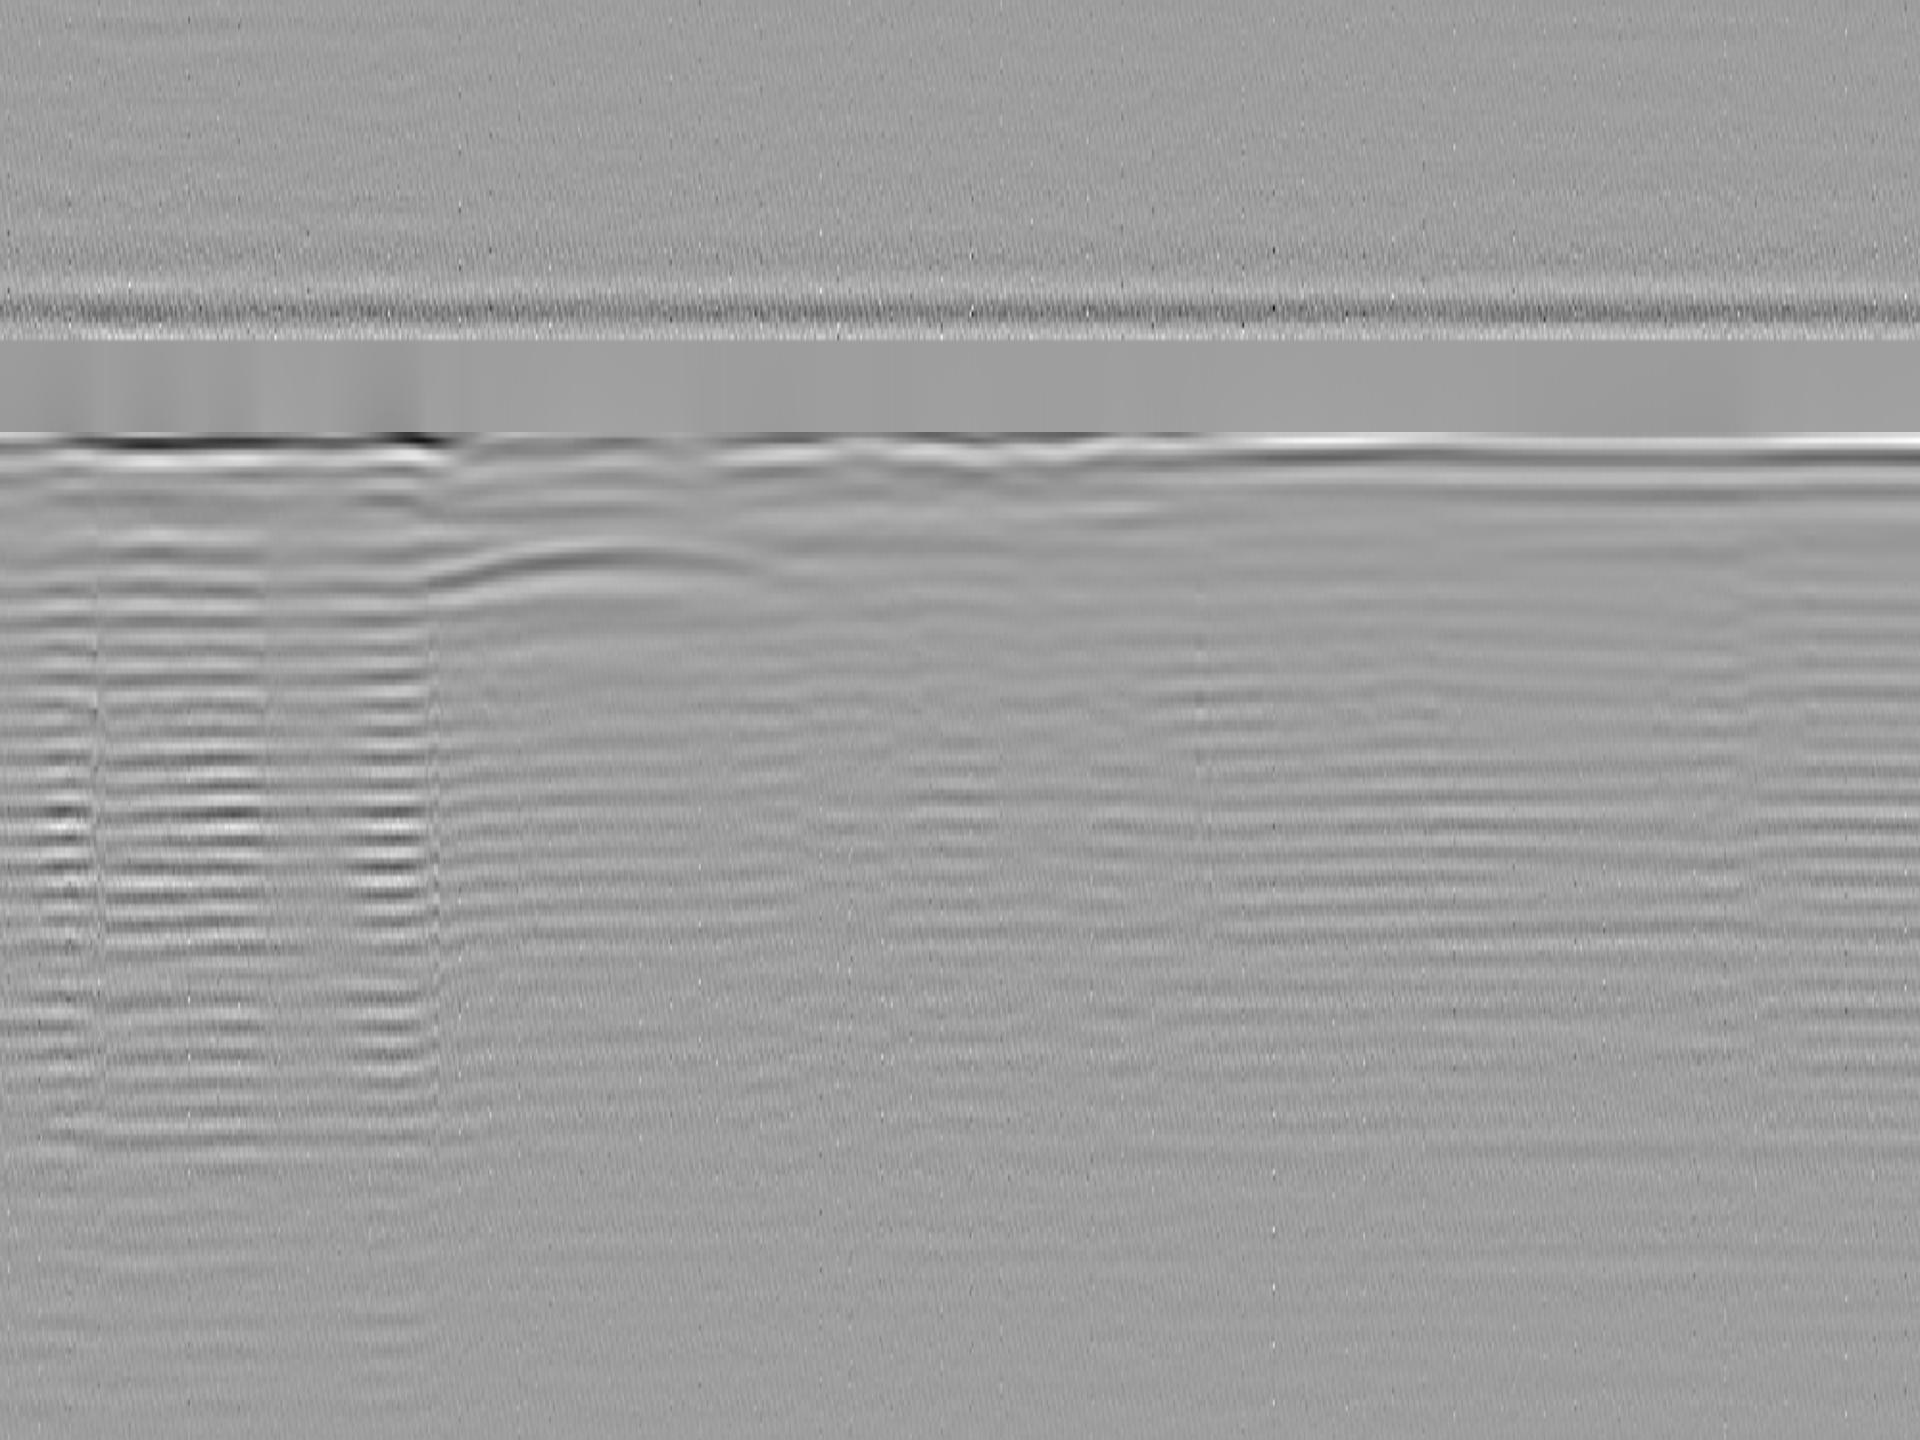Tunnel: (422, 535, 807, 605)
